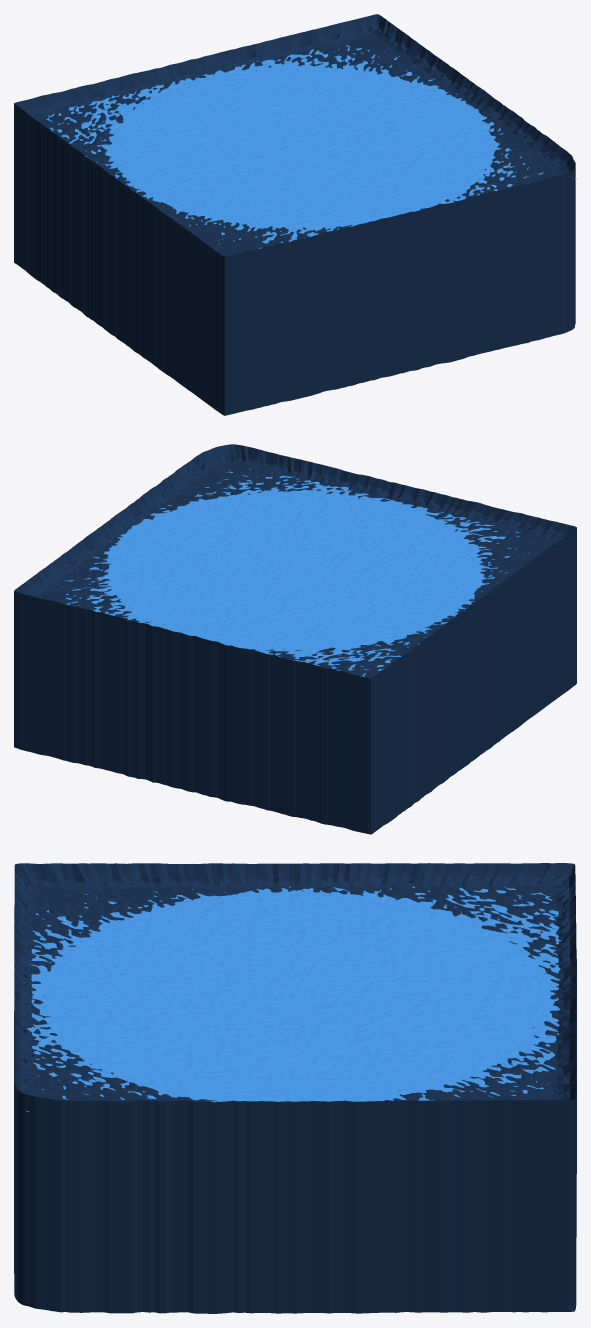
The model's file is AllScenes.glb.
The picture shows the model from 3 angles, top to bottom: view 1: azimuth 30°, elevation 25°; view 2: azimuth 150°, elevation 25°; view 3: azimuth 270°, elevation 25°; orthographic projection. The views are drawn at different scales.
Parts seen in each view (by area): view 1: Floor, Surface; view 2: Floor, Surface; view 3: Floor, Surface.
Part boxes in pixels (x1=…): Floor: x1=14, y1=14, x2=575, y2=415; Surface: x1=46, y1=45, x2=576, y2=248; Floor: x1=14, y1=444, x2=576, y2=834; Surface: x1=62, y1=469, x2=529, y2=676; Floor: x1=14, y1=863, x2=576, y2=1313; Surface: x1=26, y1=886, x2=561, y2=1111.
Bounding box in the file's own units: 1405 × 588 × 1401.
